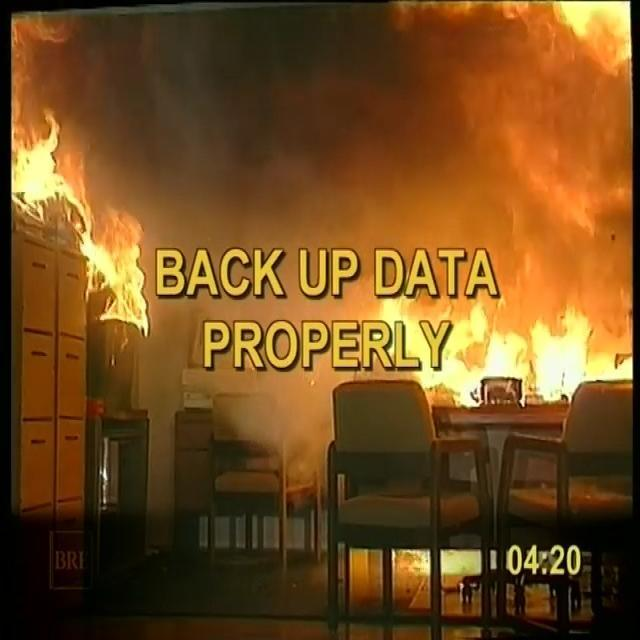Fire: (4, 1, 638, 406)
